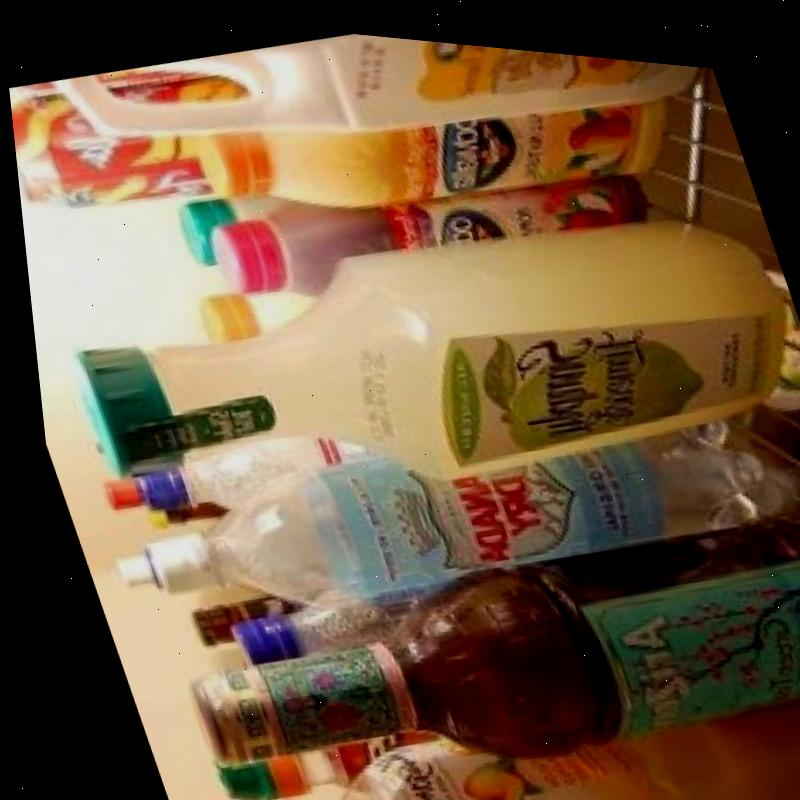botella: (104, 338, 797, 679), (108, 397, 355, 525), (212, 568, 414, 685)
